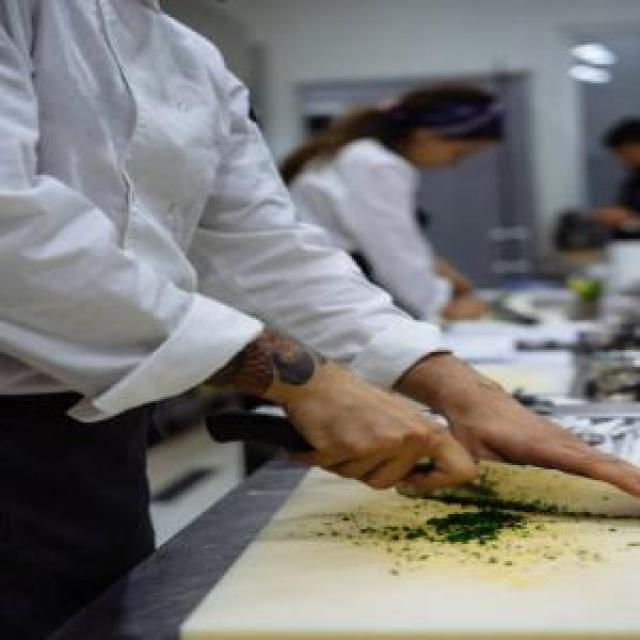knife: (200, 373, 638, 523)
